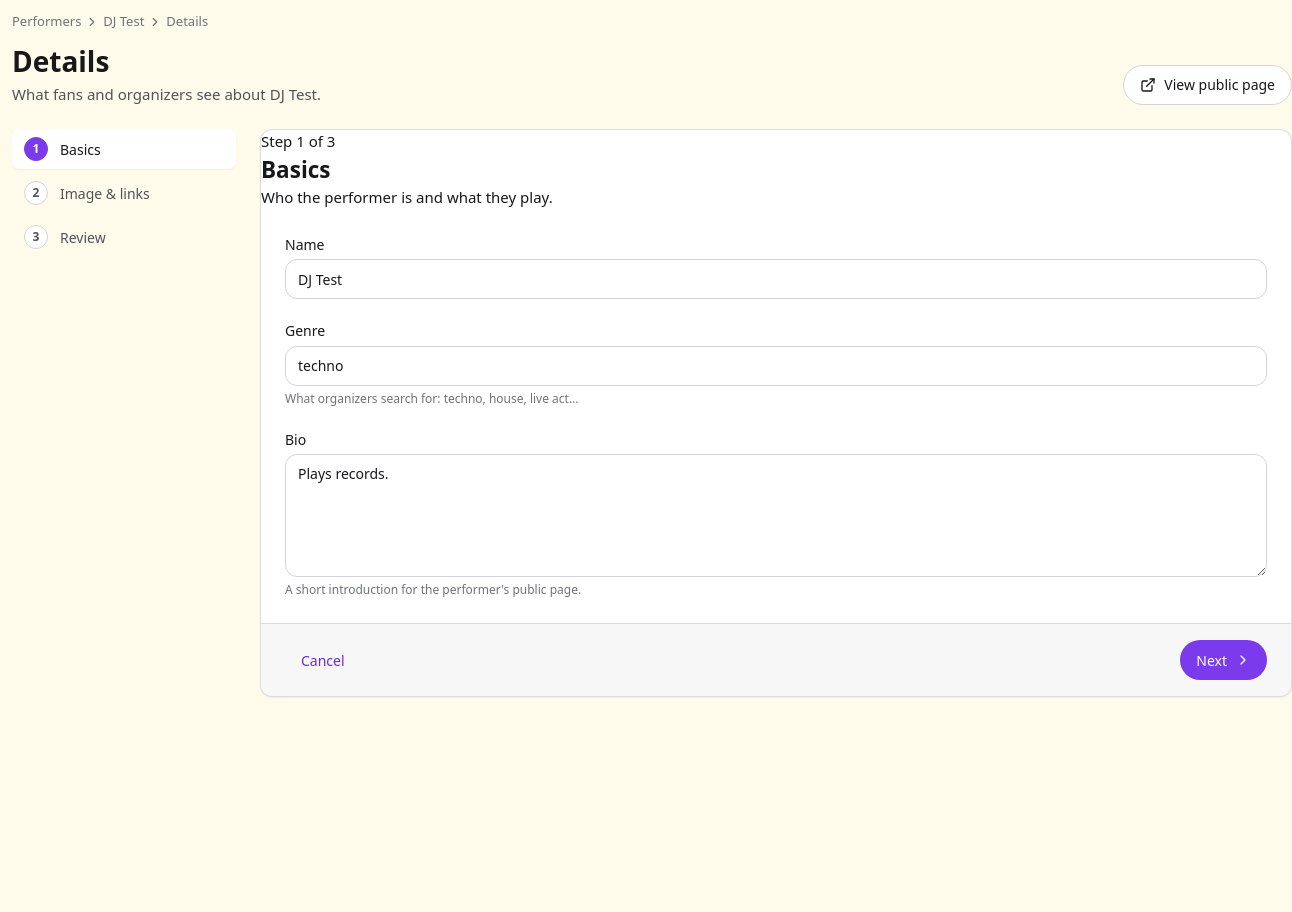
Test case: EditPerformerPage › saves an edited performer and stays
Replace the text in the field labelled "Genre" with "acid" at (776, 366), box [285,346,1267,386]
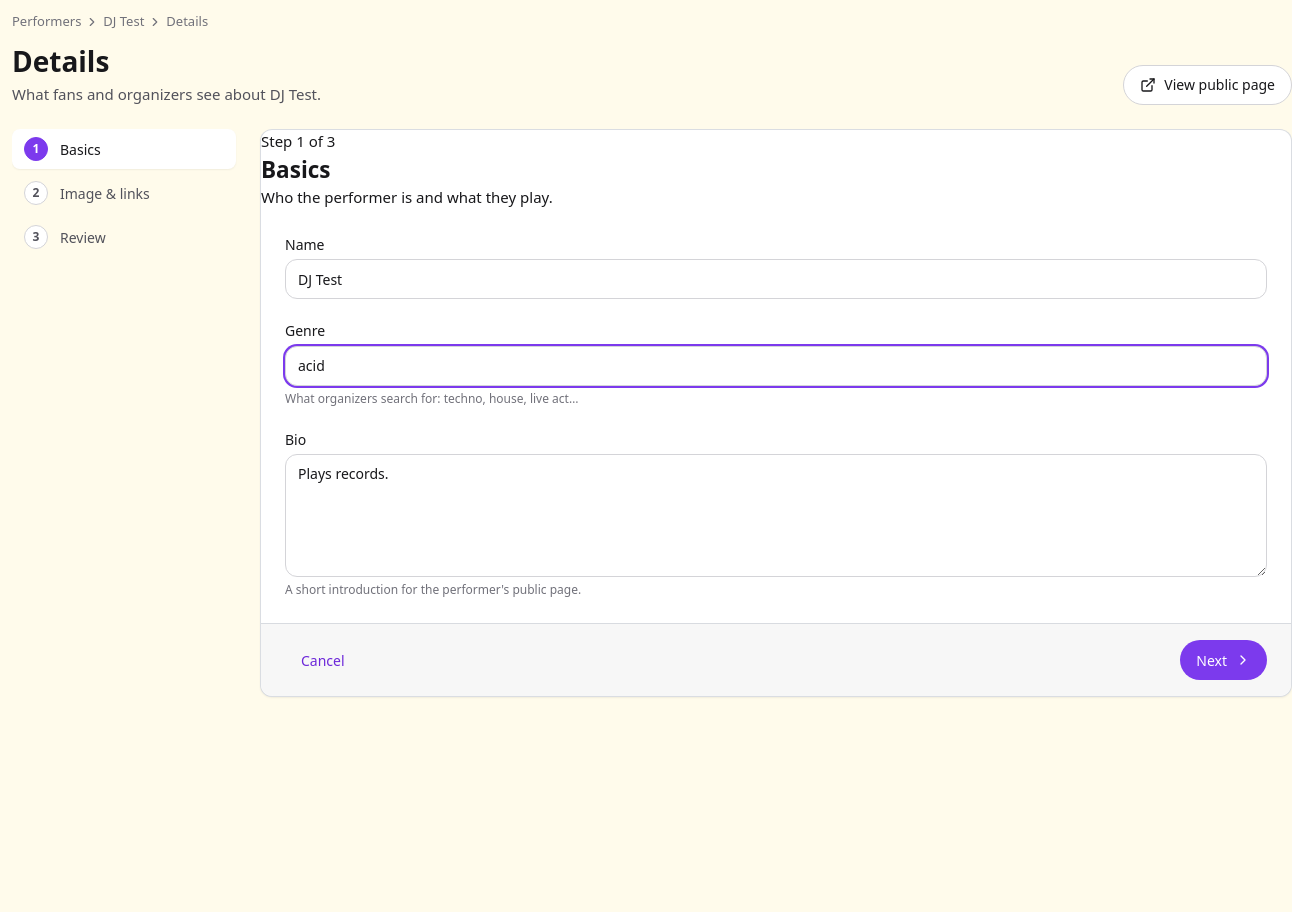
Click the button "3 Review" at (124, 237), box [12,217,236,257]
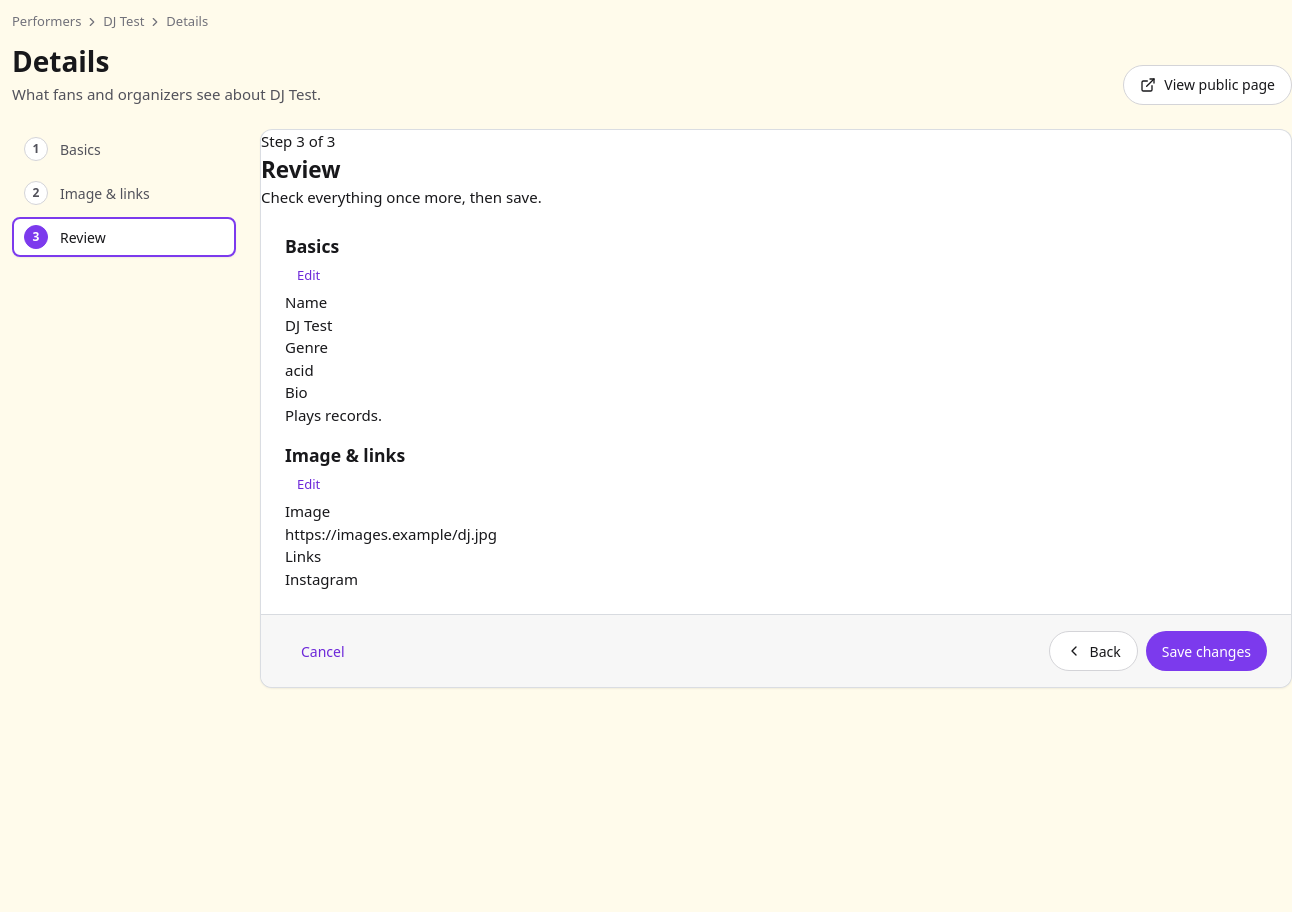
Click the button "Save changes" at (1206, 651), box [1146,631,1267,671]
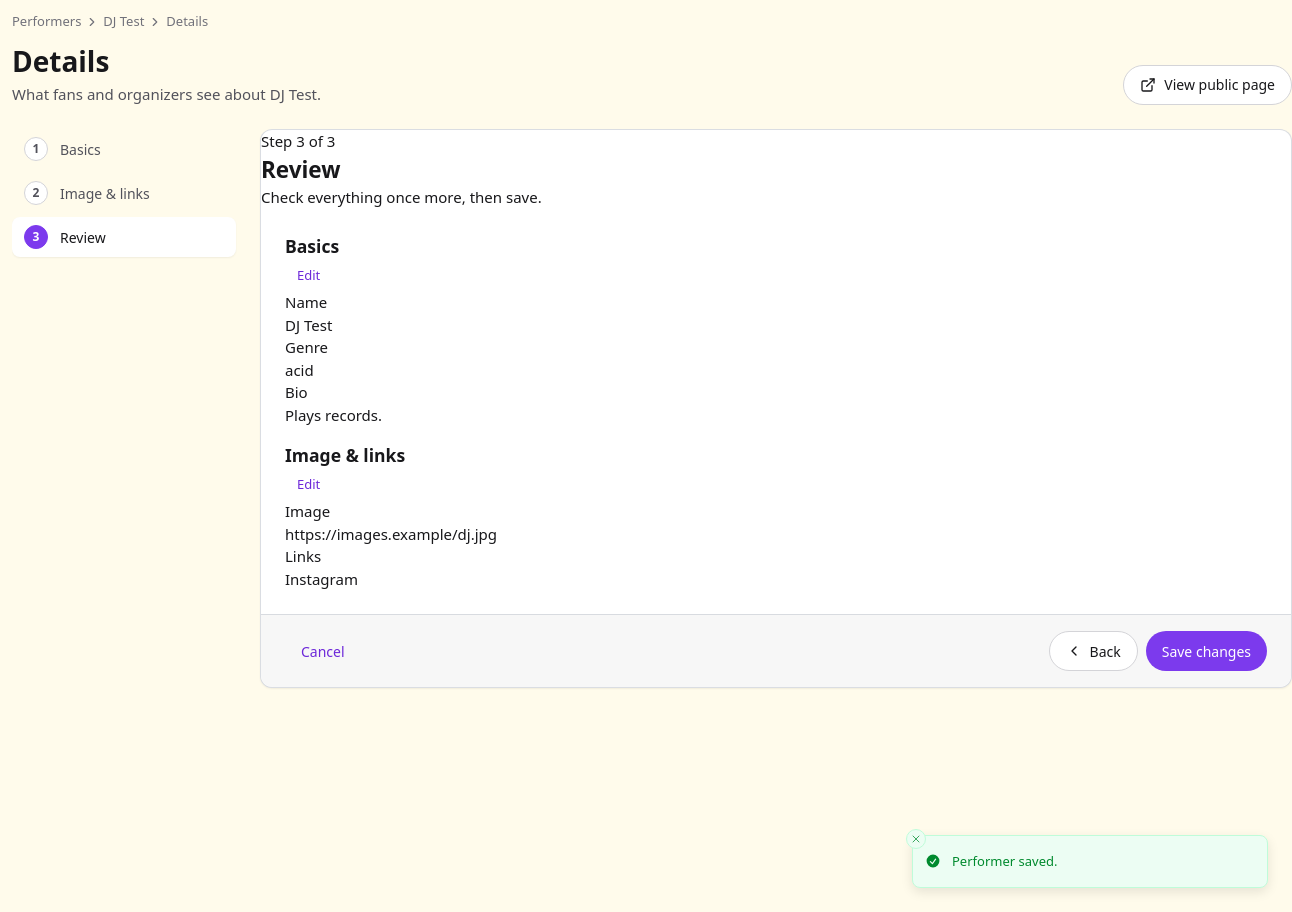
Now the text "Performer saved." is shown, box [952,852,1058,871]
